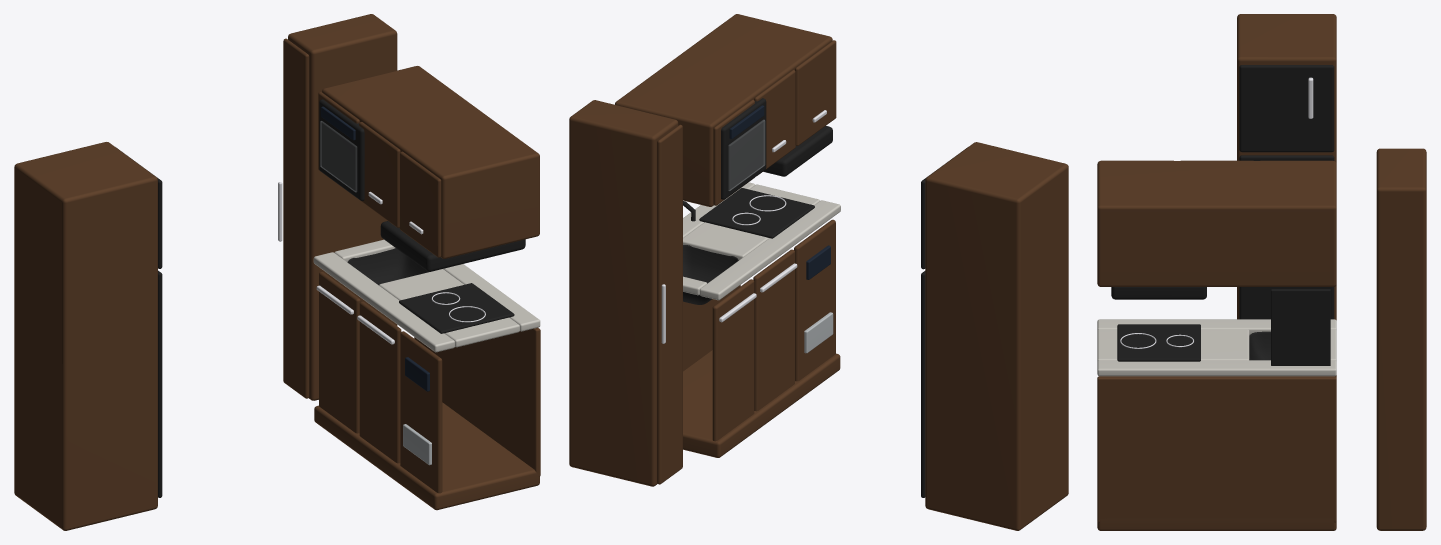
File: galley.glb
3 renders of one model, left to right at view 1: azimuth 30°, elevation 25°; view 2: azimuth 150°, elevation 25°; view 3: azimuth 270°, elevation 25°, orthographic. The views are drawn at different scales.
Visible parts, largest first — view 1: fridge, galley_run, galley_overhead, wardrobe, galley_details; view 2: fridge, wardrobe, galley_run, galley_overhead, galley_details; view 3: galley_run, galley_overhead, wardrobe, fridge, galley_details.
Part boxes in pixels (bbox=[...]): fridge: bbox=[14, 142, 162, 530]; galley_run: bbox=[313, 239, 540, 510]; galley_overhead: bbox=[318, 66, 539, 258]; wardrobe: bbox=[278, 14, 397, 400]; galley_details: bbox=[319, 99, 525, 333]; fridge: bbox=[921, 142, 1068, 530]; wardrobe: bbox=[569, 100, 682, 486]; galley_run: bbox=[683, 182, 840, 457]; galley_overhead: bbox=[615, 14, 836, 206]; galley_details: bbox=[683, 98, 832, 238]; galley_run: bbox=[1097, 319, 1336, 530]; galley_overhead: bbox=[1097, 160, 1336, 286]; wardrobe: bbox=[1376, 148, 1426, 530]; fridge: bbox=[1237, 14, 1336, 376]; galley_details: bbox=[1111, 287, 1330, 365].
Size of the model in its own units: 2.3 by 1.9 by 1.65.
